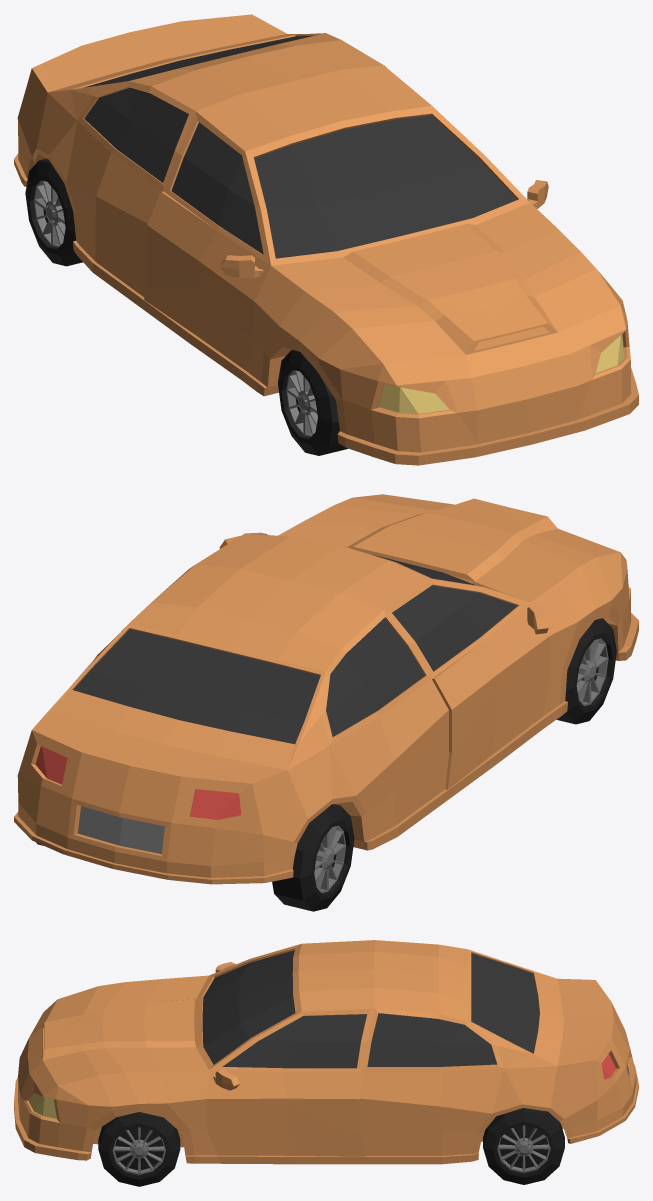
3 views of the same model, one above another, from view 1: azimuth 30°, elevation 25°; view 2: azimuth 150°, elevation 25°; view 3: azimuth 270°, elevation 25° (orthographic). The views are drawn at different scales.
Parts seen in each view (by area): view 1: SportsCar, SportsCar_FrontRightWheel, SportsCar_BackWheels; view 2: SportsCar, SportsCar_BackWheels, SportsCar_FrontRightWheel; view 3: SportsCar, SportsCar_BackWheels, SportsCar_FrontLeftWheel.
Boxes of the visible parts, bbox=[...] form: SportsCar: bbox=[14, 14, 638, 465]; SportsCar_FrontRightWheel: bbox=[278, 349, 348, 455]; SportsCar_BackWheels: bbox=[25, 158, 82, 266]; SportsCar: bbox=[14, 494, 638, 884]; SportsCar_BackWheels: bbox=[36, 804, 354, 911]; SportsCar_FrontRightWheel: bbox=[556, 618, 616, 724]; SportsCar: bbox=[14, 940, 638, 1164]; SportsCar_BackWheels: bbox=[483, 1108, 564, 1184]; SportsCar_FrontLeftWheel: bbox=[98, 1112, 180, 1186].
Bounding box in the file's own units: 1.8 × 1.16 × 3.97.
